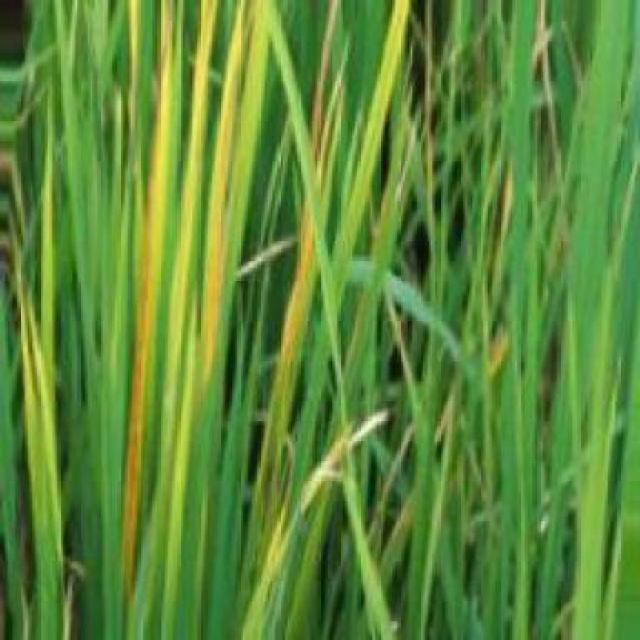Rice Tungro: (241, 45, 342, 485), (109, 3, 181, 600), (192, 2, 260, 390)
